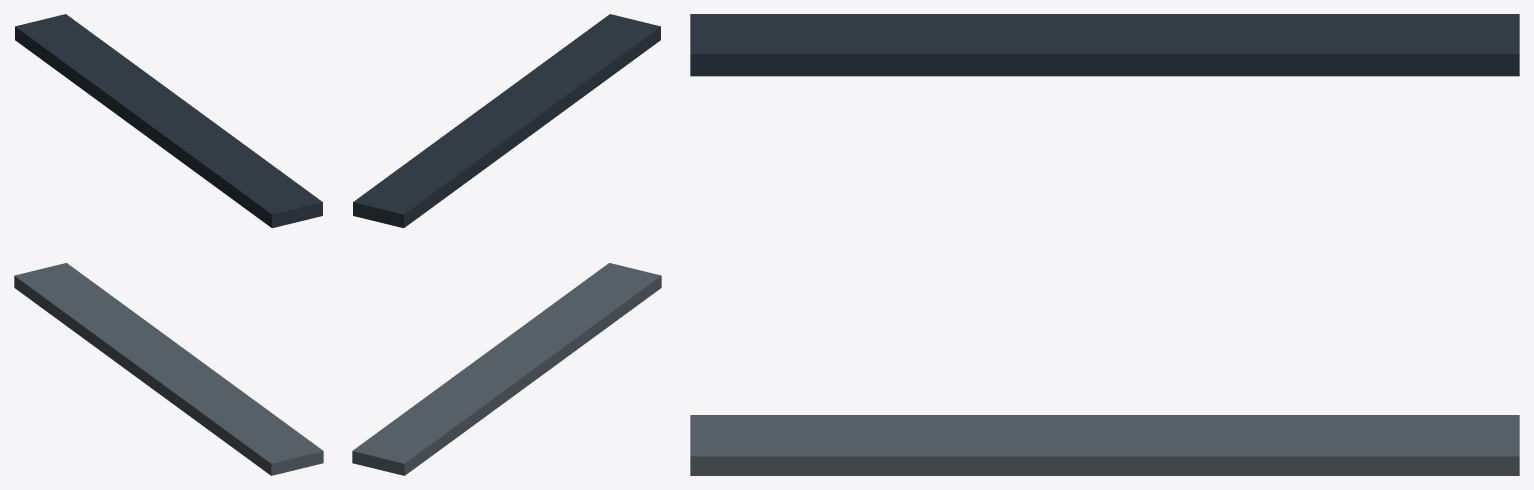
Rendered from wall.full_6m.glb.
3 renders of one model, left to right at view 1: azimuth 30°, elevation 25°; view 2: azimuth 150°, elevation 25°; view 3: azimuth 270°, elevation 25°, orthographic. The views are drawn at different scales.
Visible parts, largest first — view 1: top_trim, base_trim; view 2: top_trim, base_trim; view 3: top_trim, base_trim.
Part boxes in pixels (x1,y1,x2,y2): top_trim: [15, 14, 322, 228]; base_trim: [14, 263, 323, 475]; top_trim: [353, 14, 660, 228]; base_trim: [352, 263, 661, 475]; top_trim: [690, 14, 1519, 76]; base_trim: [690, 415, 1519, 475].
Size of what is drawn, in the model's own units: 0.72 by 3.43 by 6.12.
